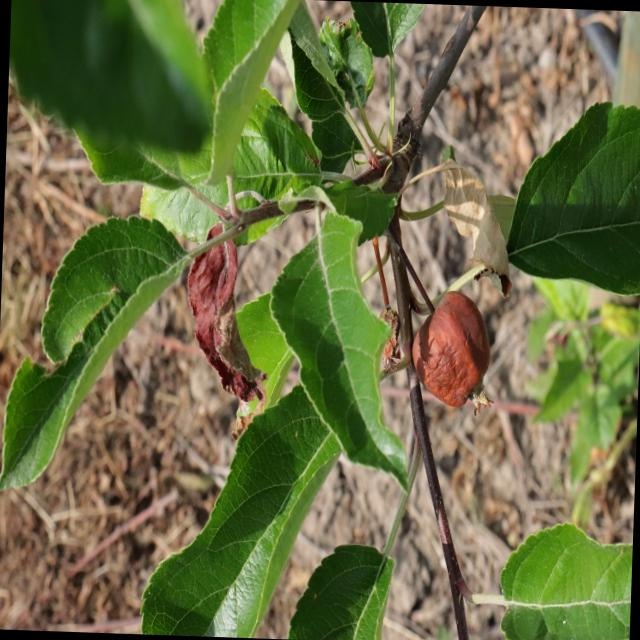-FireBlight-: (177, 204, 279, 416)
